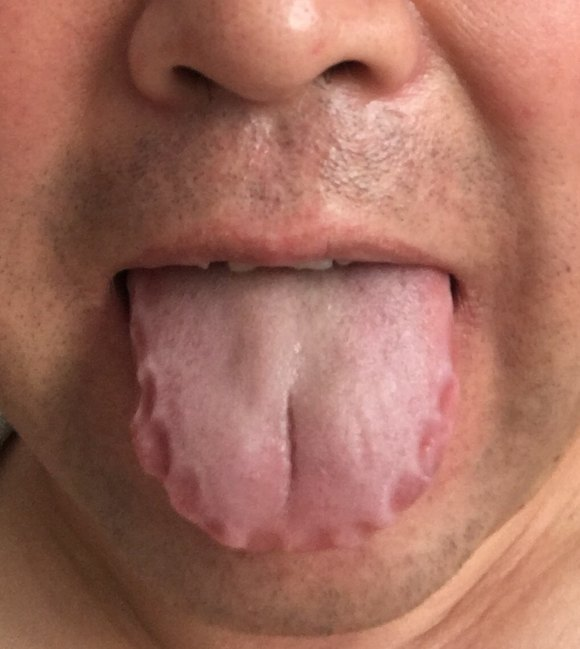baitaishe: (127, 265, 456, 554)
chihenshe: (351, 308, 457, 543), (127, 314, 230, 548)
liewenshe: (277, 390, 298, 503)
